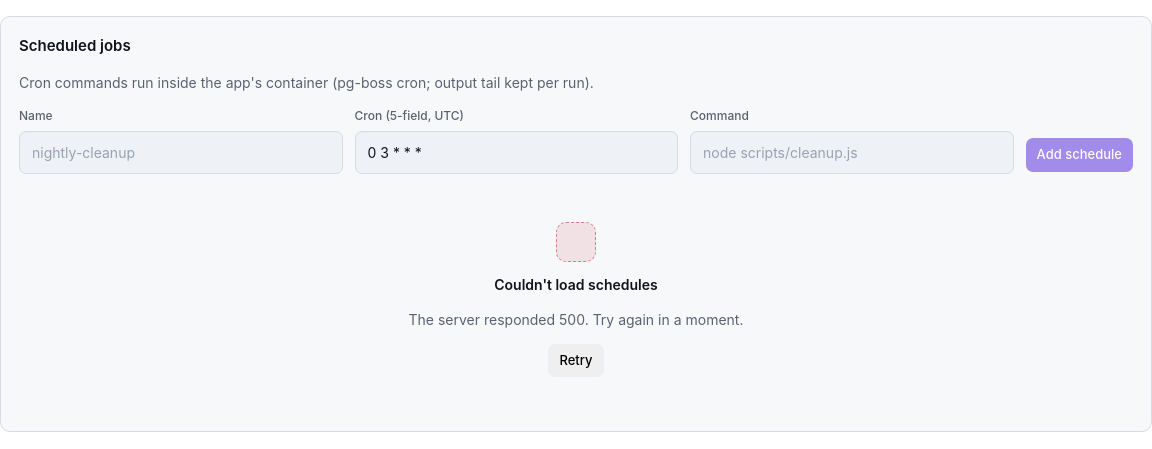
SchedulesCard (component) › shows an error state with Retry (not a fake empty) on failure, and recovers
Expected: the message "Couldn't load schedules The server responded 500. Try again in a moment. Retry" is shown, [408,222,743,377]
Expected: the text "Couldn't load schedules" is shown, [494,276,658,292]
Step 1. Click the button "Retry" → (576,360), box [548,344,604,377]
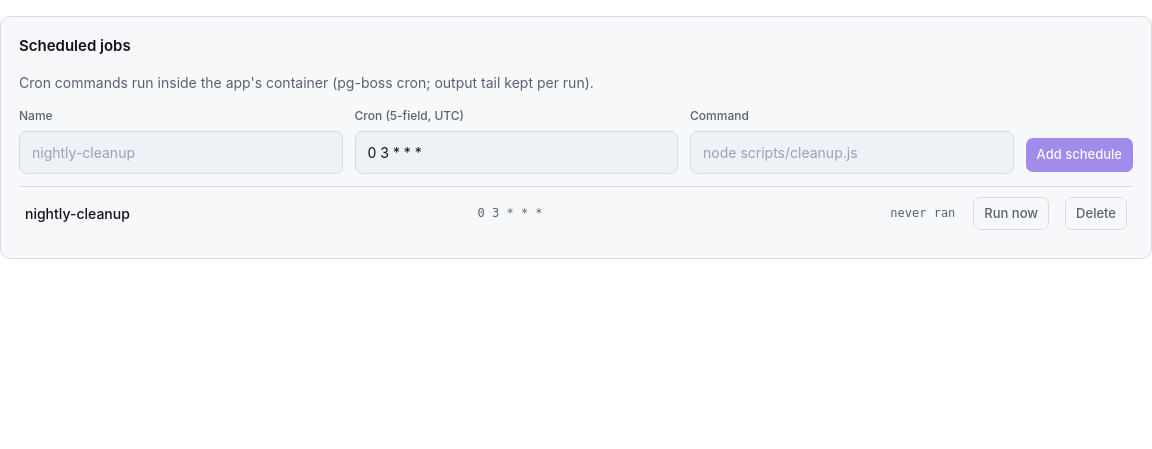
Expected: the text "nightly-cleanup" is shown, [25,203,130,224]
